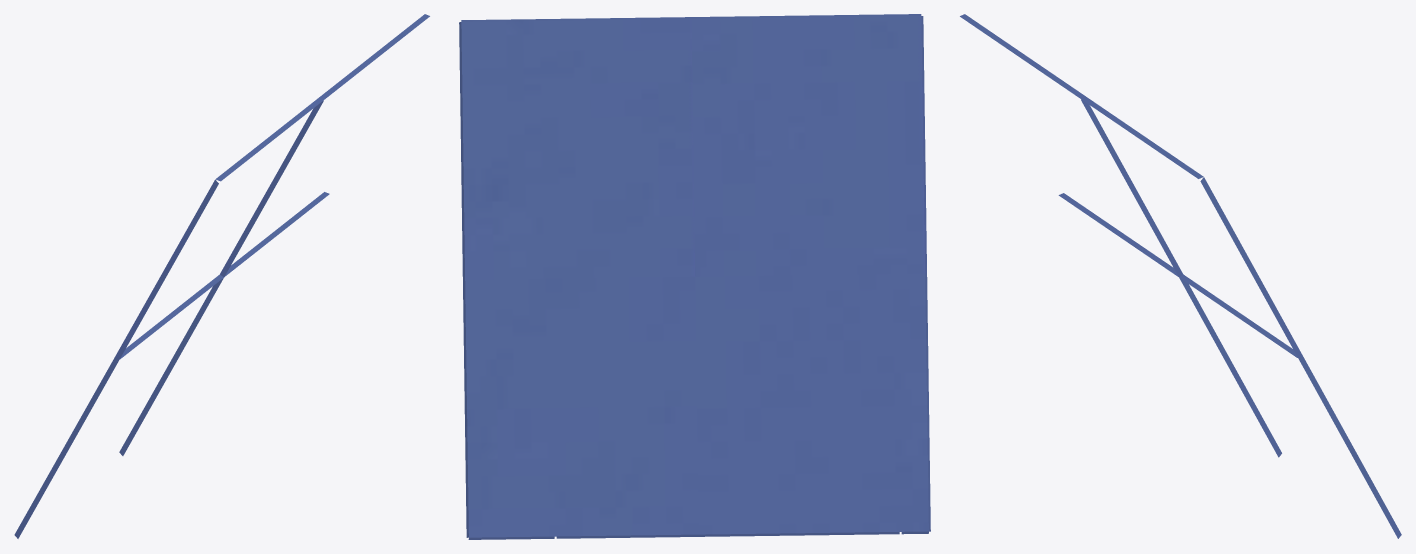
3 views of the same model, side by side, from view 1: azimuth 30°, elevation 25°; view 2: azimuth 150°, elevation 25°; view 3: azimuth 270°, elevation 25° (orthographic). The views are drawn at different scales.
Bounding box in the file's own units: 39528 × 35211 × 34124.
Materials: 1 (1 with a texture image).
